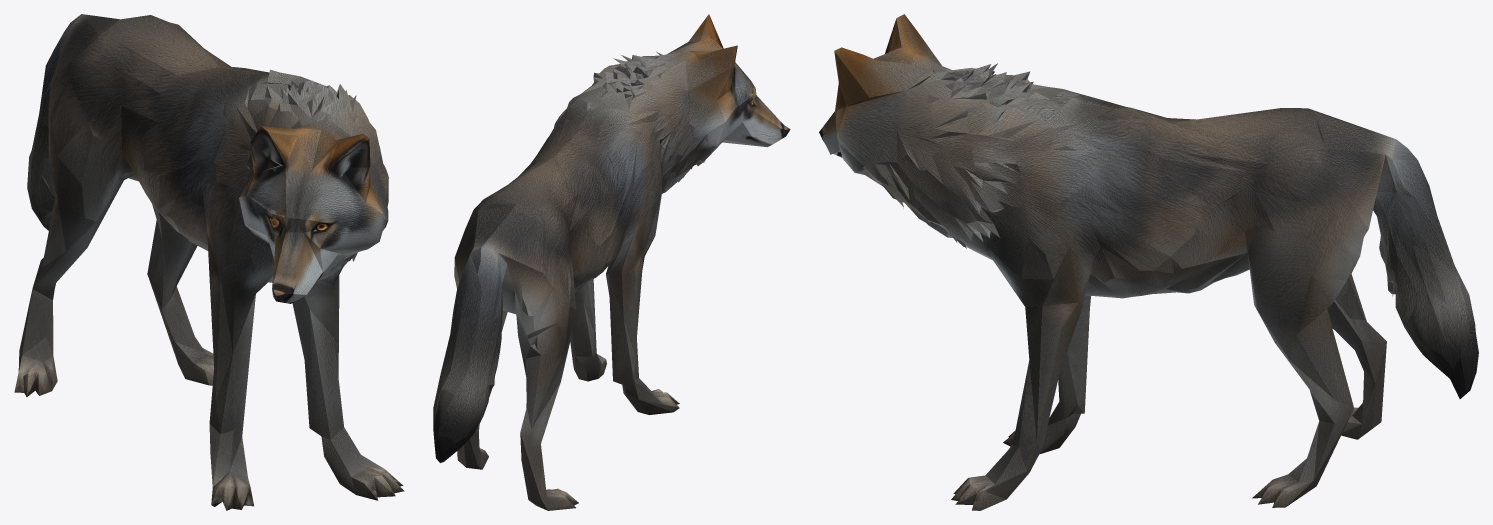
File: wolf.glb
The picture shows the model from 3 angles, left to right: view 1: azimuth 30°, elevation 25°; view 2: azimuth 150°, elevation 25°; view 3: azimuth 270°, elevation 25°; orthographic projection. The views are drawn at different scales.
Bounding box in the file's own units: 0.6565 × 1.32 × 1.9.
1 material, 1 textured.
